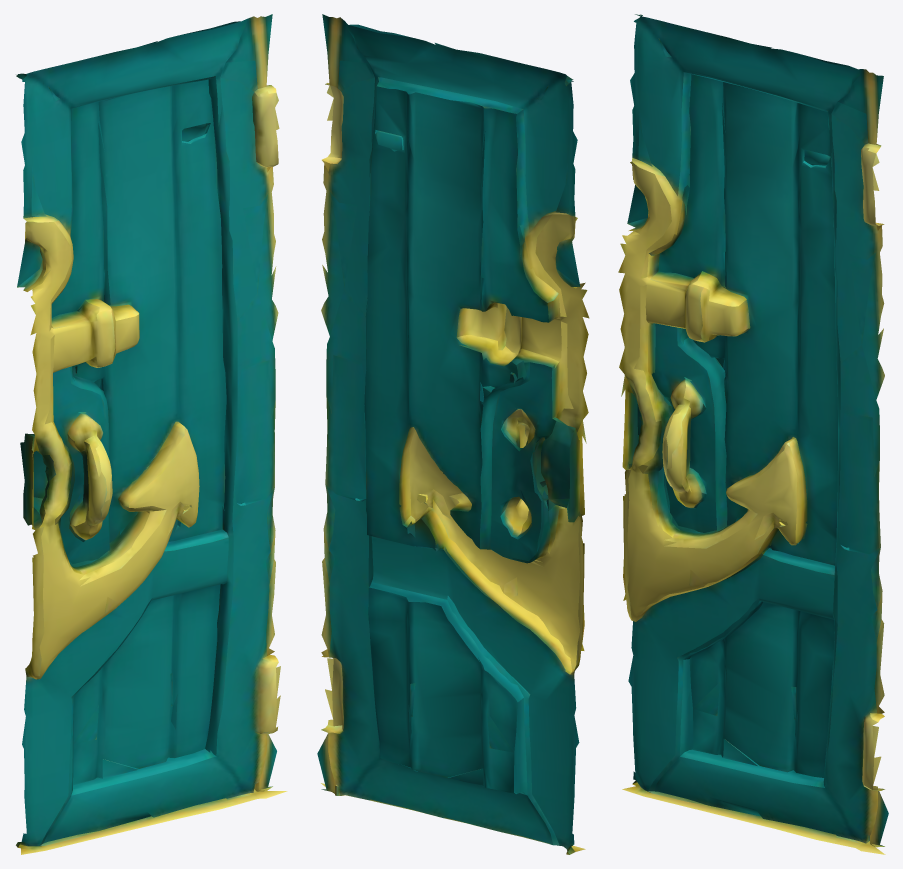
File: door_right.glb
3 views of the same model, side by side, from view 1: azimuth 30°, elevation 25°; view 2: azimuth 150°, elevation 25°; view 3: azimuth 330°, elevation 25° (orthographic).
Visible parts, largest first — view 1: source_surface_0; view 2: source_surface_0; view 3: source_surface_0.
Part boxes in pixels (x1,y1,x2,y2): source_surface_0: [16, 14, 287, 854]; source_surface_0: [317, 14, 589, 854]; source_surface_0: [618, 14, 888, 854].
Size of the model in its own units: 0.2269 by 0.6324 by 0.0486.
1 material, 1 textured.
